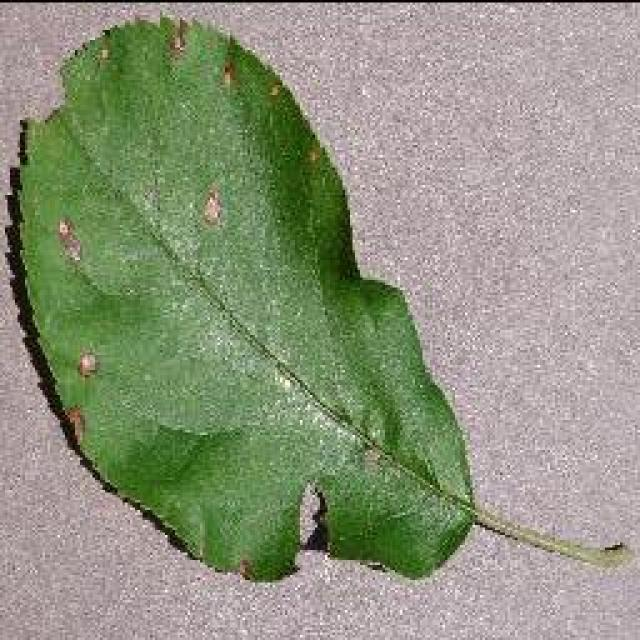apple healthy: (0, 10, 628, 585)
